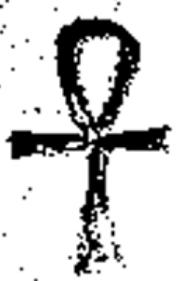Ankh: (7, 11, 178, 275)
